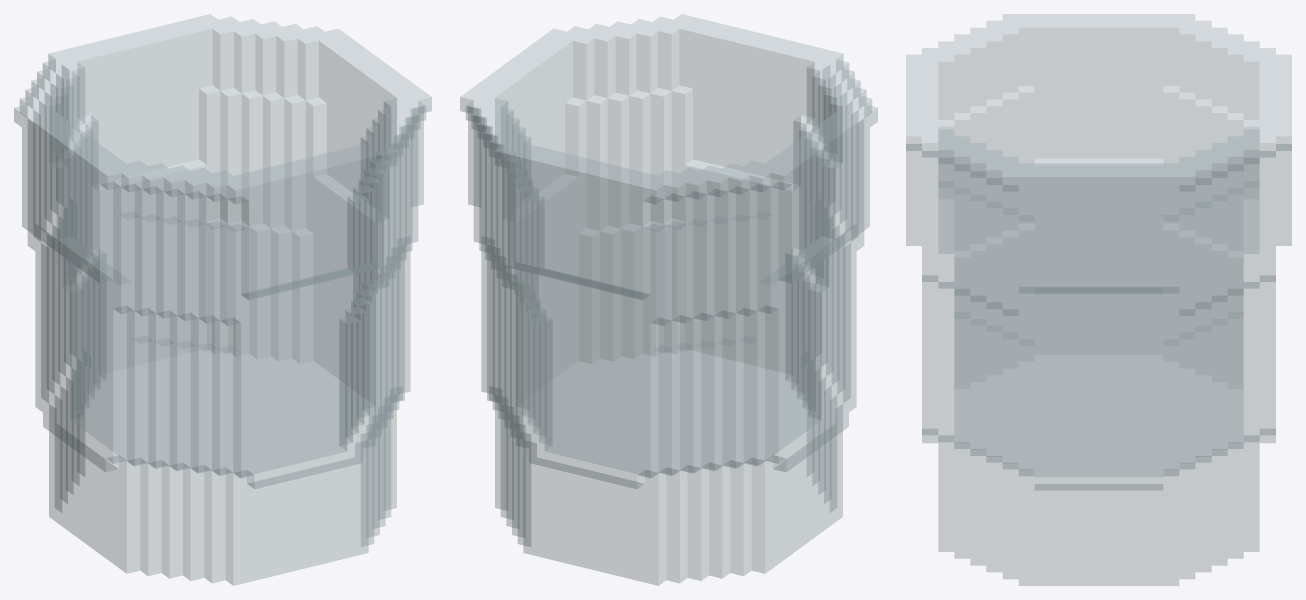
File: shot_glass.glb
The picture shows the model from 3 angles, left to right: view 1: azimuth 30°, elevation 25°; view 2: azimuth 150°, elevation 25°; view 3: azimuth 270°, elevation 25°; orthographic projection. The views are drawn at different scales.
Visible parts, largest first — view 1: shot_glass:compound; view 2: shot_glass:compound; view 3: shot_glass:compound.
Boxes of the visible parts, x1,y1,x2,y2 form: shot_glass:compound: (14,14,431,585); shot_glass:compound: (460,14,877,585); shot_glass:compound: (906,14,1291,585).
Size of the model in its own units: 0.048 by 0.058 by 0.048.
